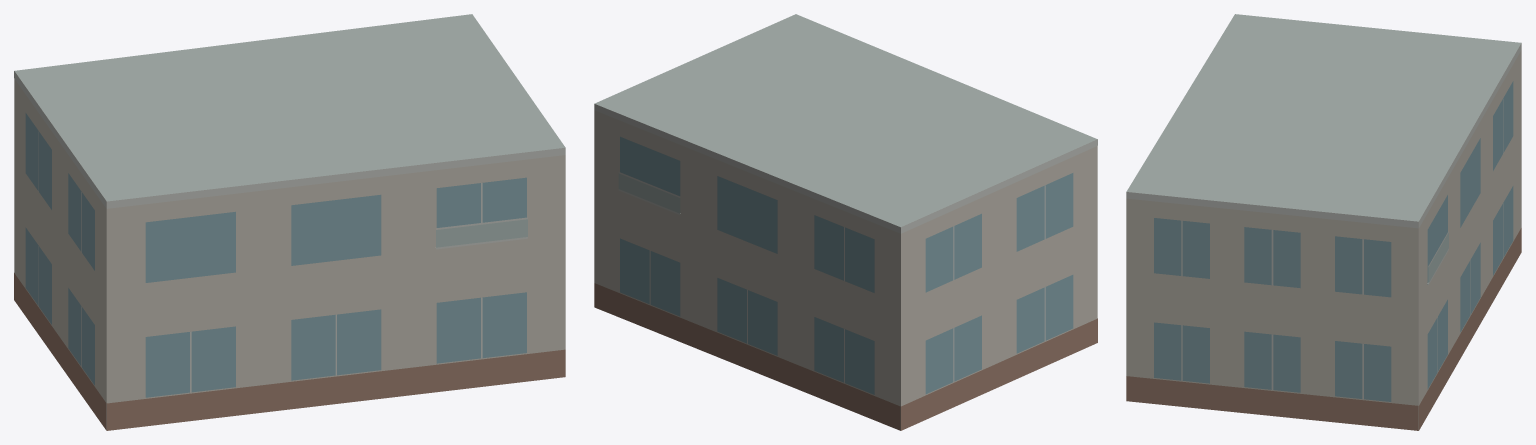
Rendered from survey-upis-32638735.glb.
3 views of the same model, side by side, from view 1: azimuth 30°, elevation 25°; view 2: azimuth 150°, elevation 25°; view 3: azimuth 270°, elevation 25° (orthographic). The views are drawn at different scales.
Visible parts, largest first — view 1: survey-upis-32638735.tmp; view 2: survey-upis-32638735.tmp; view 3: survey-upis-32638735.tmp.
Boxes of the visible parts, box(x1,y1,x2,y2) form: survey-upis-32638735.tmp: box(14, 14, 565, 430); survey-upis-32638735.tmp: box(594, 14, 1097, 430); survey-upis-32638735.tmp: box(1126, 14, 1521, 430).
Size of the model in its own units: 16.18 by 7.6 by 13.02.
